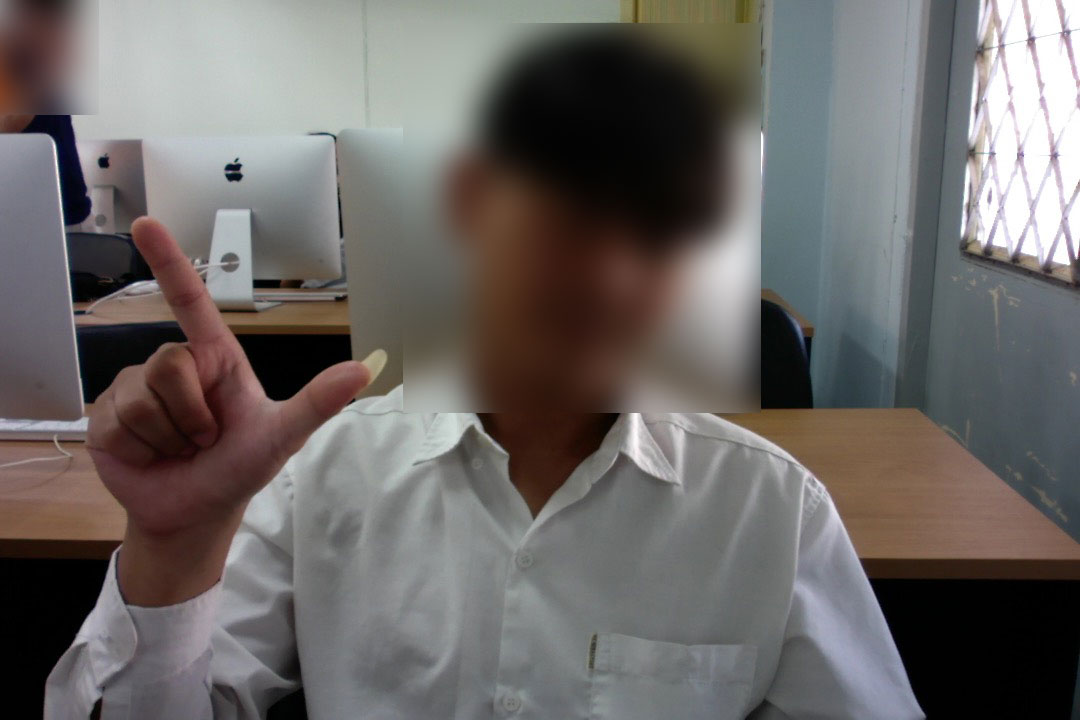lor: (66, 202, 394, 560)
